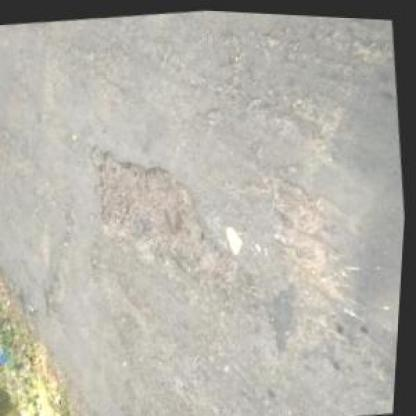pothole: (83, 129, 230, 293), (42, 279, 68, 319)
